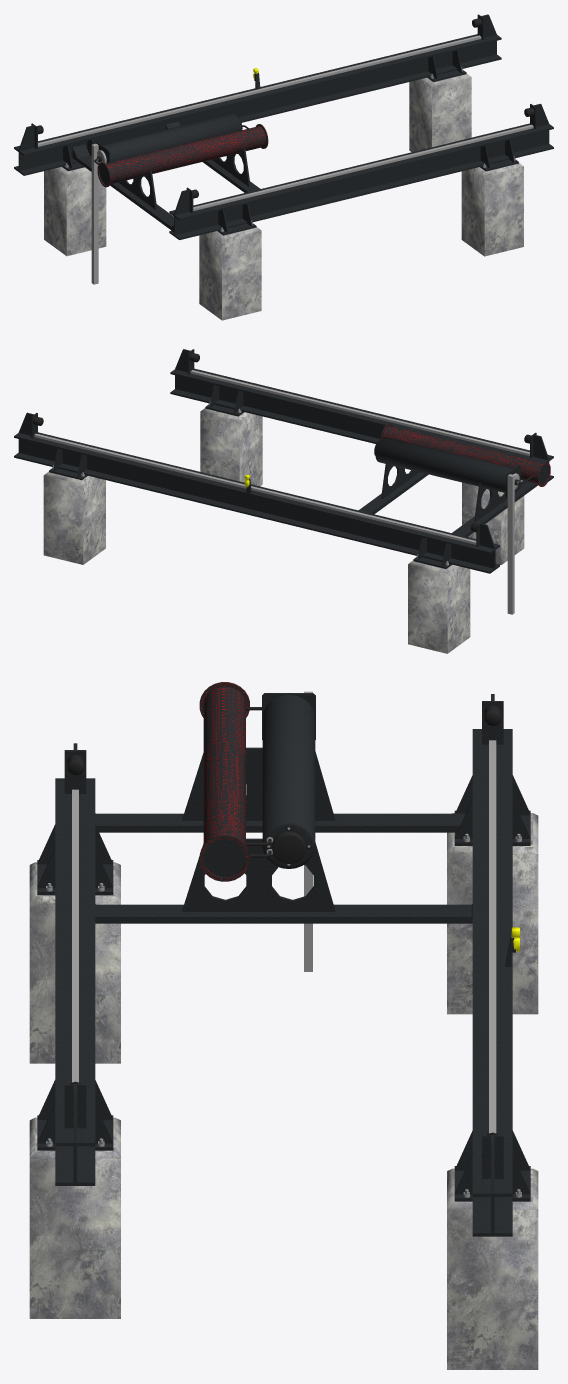
The model's file is Switch Type A Base.dae.
The picture shows the model from 3 angles, top to bottom: view 1: azimuth 30°, elevation 25°; view 2: azimuth 150°, elevation 25°; view 3: azimuth 270°, elevation 25°; orthographic projection. The views are drawn at different scales.
Visible parts, largest first — view 1: Base (×12); view 2: Base (×12); view 3: Base (×13).
Boxes of the visible parts, box(x1,y1,x2,y2) form: Base (×12): box(14, 14, 553, 320); Base (×12): box(14, 349, 553, 653); Base (×13): box(29, 686, 538, 1369).
Size of the model in its own units: 237 by 110 by 66.53.
Materials: 9 (3 with a texture image).
